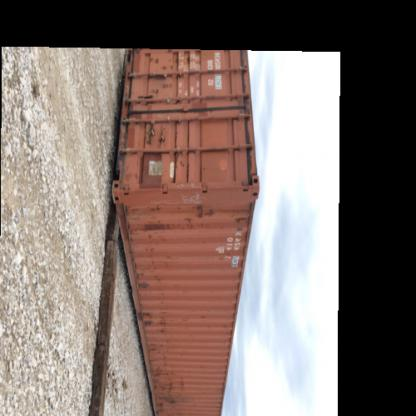Damage: (152, 362, 190, 397), (143, 214, 185, 238), (190, 196, 218, 228), (119, 100, 153, 125), (134, 274, 160, 296), (140, 309, 162, 333)
